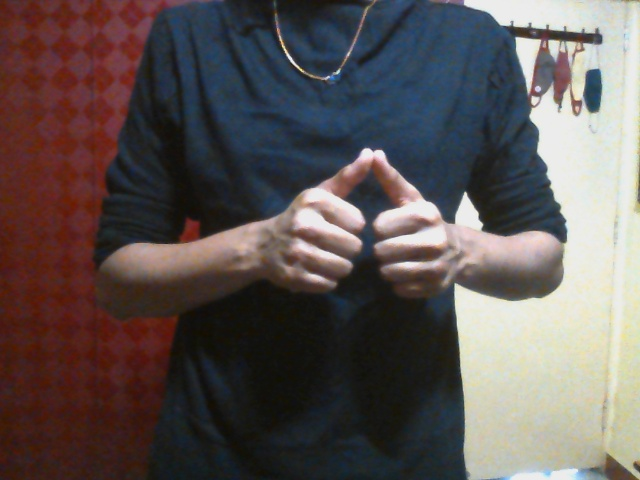A: (267, 146, 456, 301)
